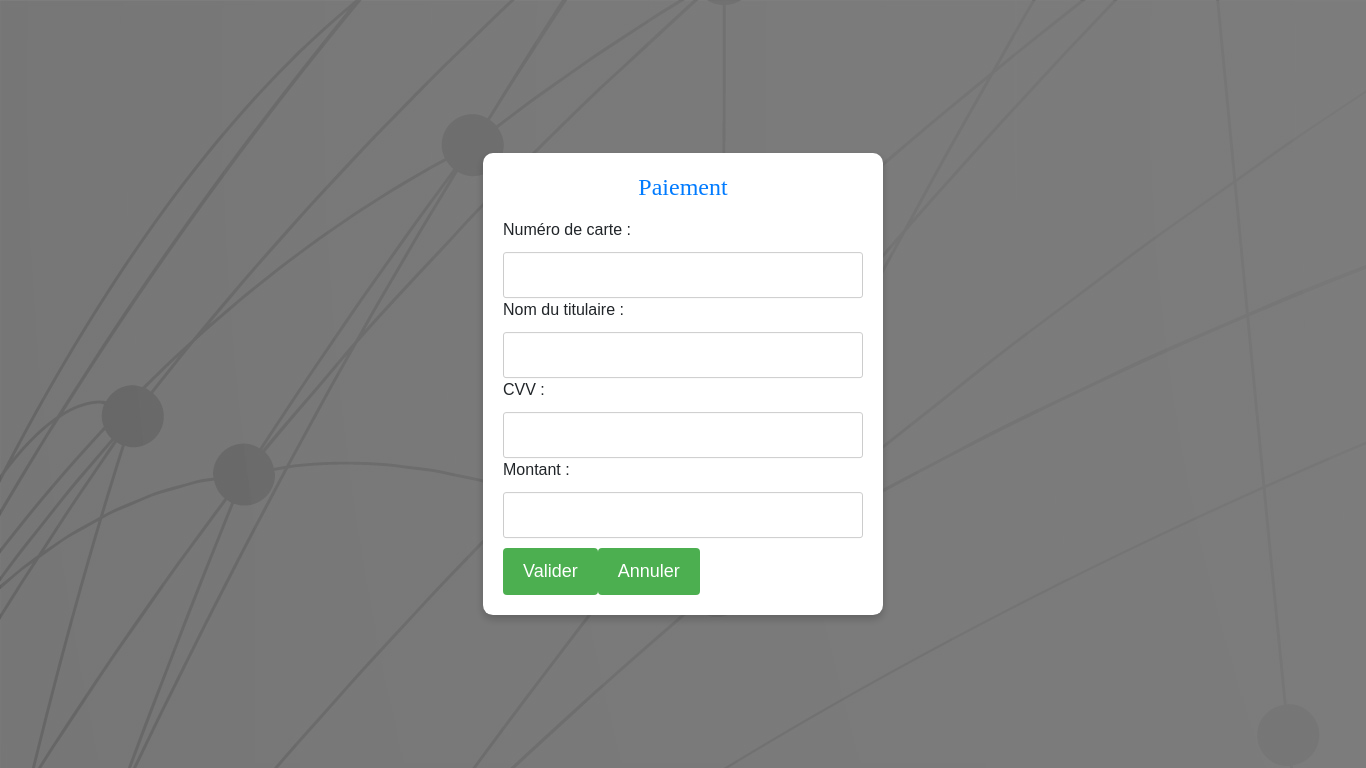
Test: PaymentForm Validation › sets cardNumberError when card number is invalid
Note: Ouvrir la popup
Click the button "Valider" at (550, 571), box [503,548,598,595]
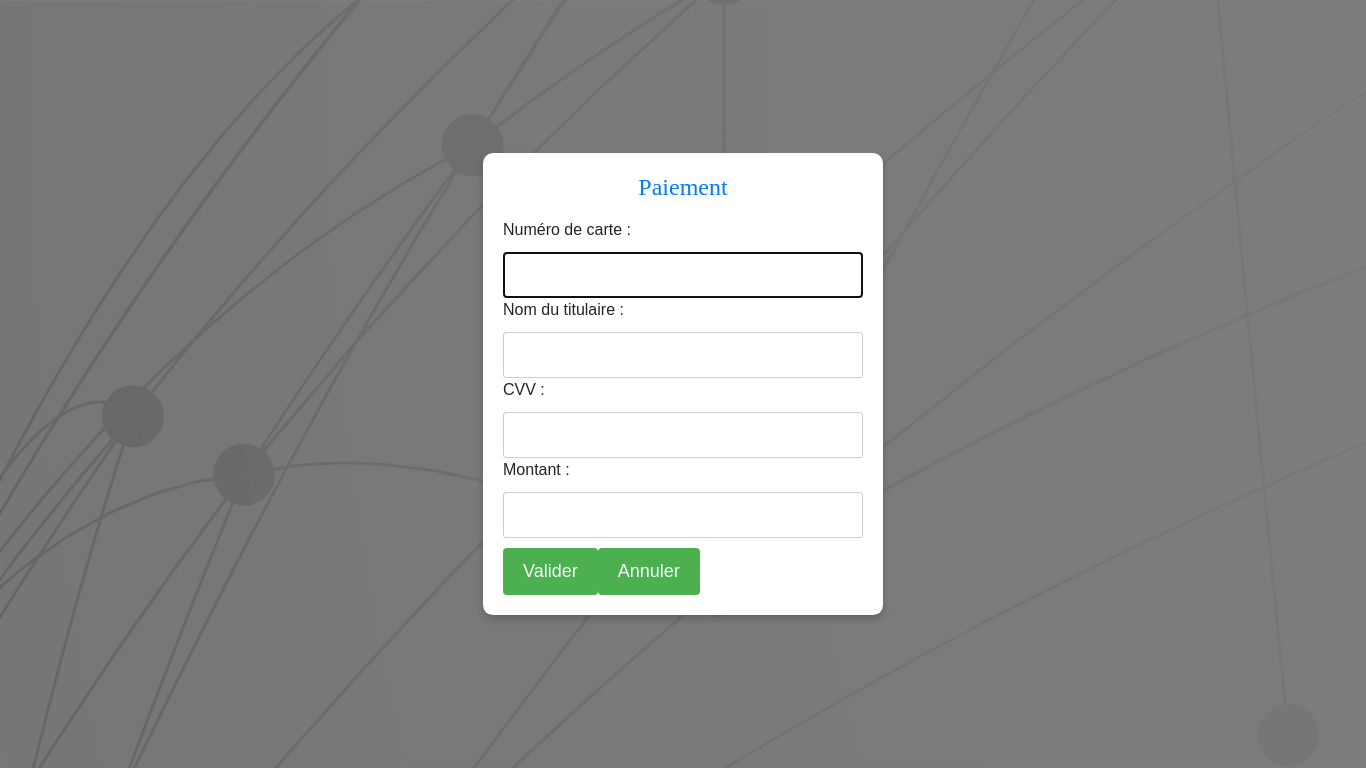
Type "4111111111111112" into the field labelled "Numéro de carte :" at (683, 275), box [503,252,863,298]
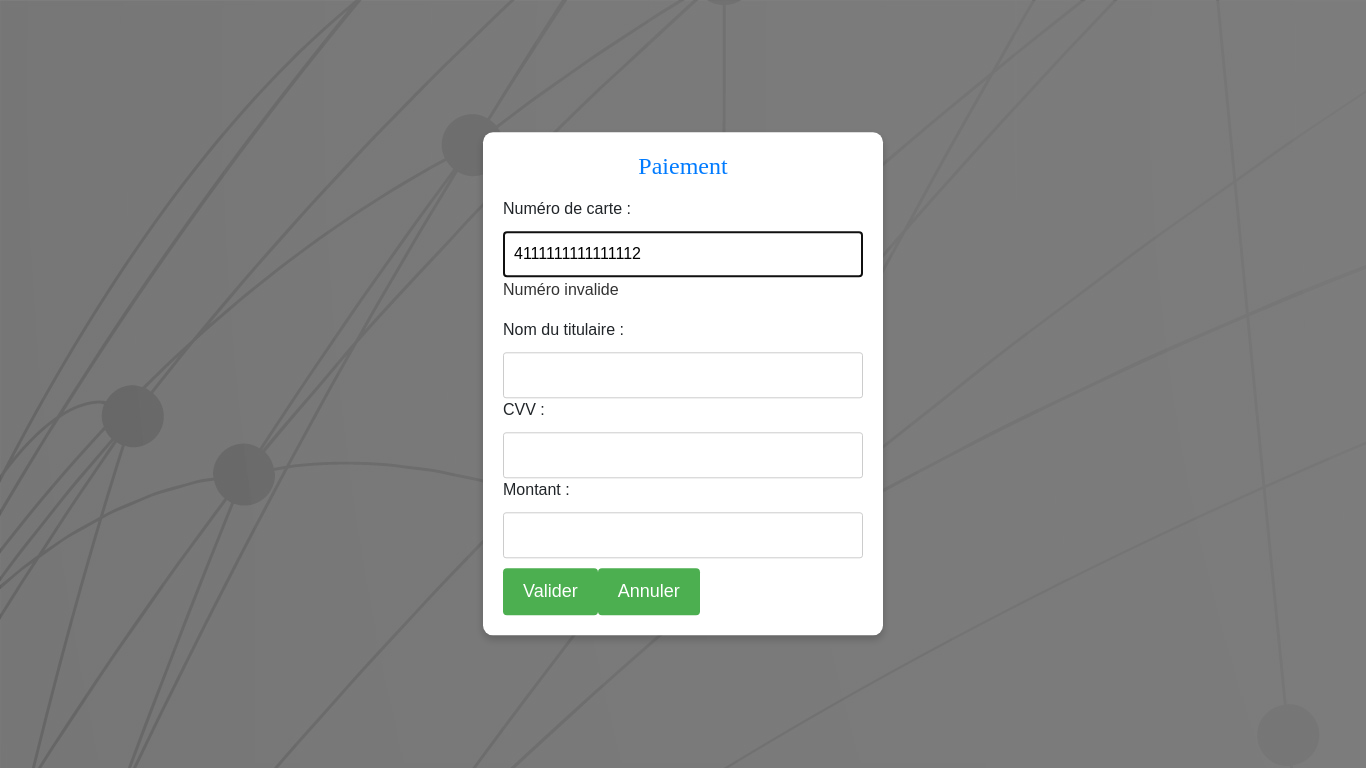
Result: the text "Numéro invalide" is shown at [503,281,619,298]
